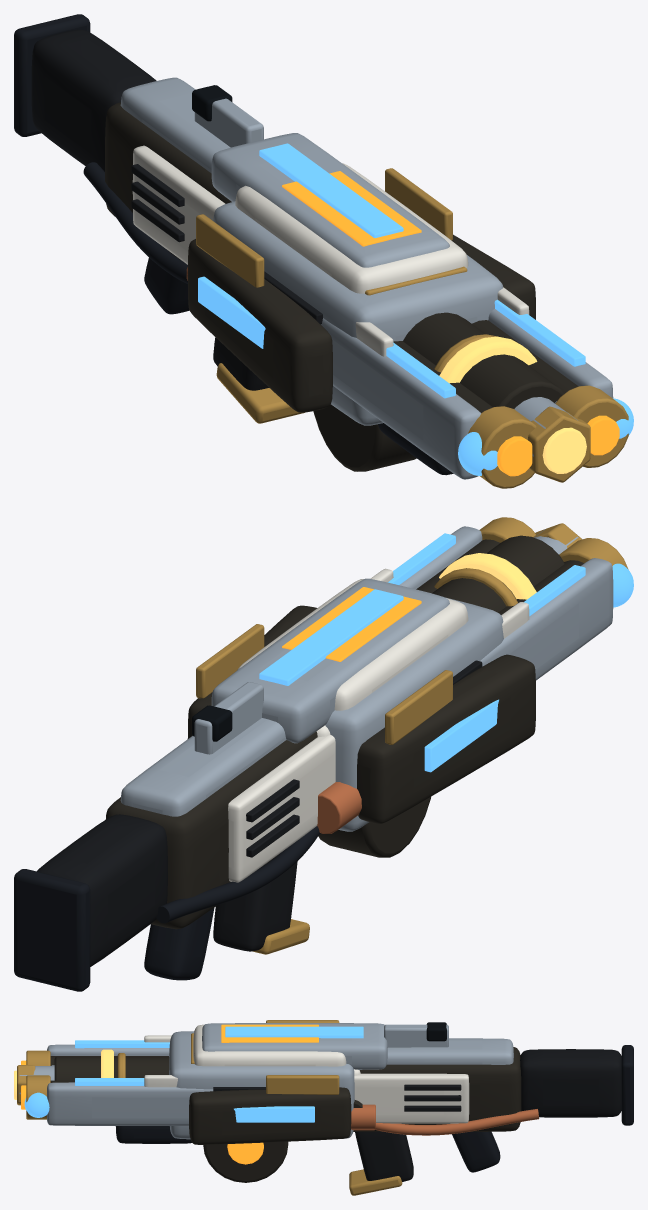
File: rifles.glb
The picture shows the model from 3 angles, top to bottom: view 1: azimuth 30°, elevation 25°; view 2: azimuth 150°, elevation 25°; view 3: azimuth 270°, elevation 25°; orthographic projection. The views are drawn at different scales.
Parts seen in each view (by area): view 1: Shroud.001, Pod-1.002, Stock, Prong-1, TopShroud.002, ShroudTop, Barrel.001, ReceiverTop, Receiver, SidePanel-1, SpineGlow.002, Drum (+31 smaller); view 2: Pod-1.002, Stock, TopShroud.002, ButtPad, Receiver, Shroud.001, ReceiverTop, SidePanel-1, Prong-1, ShroudTop, Mag, SpineGlow.002 (+25 smaller); view 3: Pod1.002, Stock, Prong1, SidePanel1, Receiver, Shroud.001, TopShroud.002, ReceiverTop, ShroudTop, Mag, Drum, Barrel.001 (+25 smaller).
Part boxes in pixels (x1=…): Shroud.001: x1=213, y1=201, x2=503, y2=425; Pod-1.002: x1=187, y1=239, x2=332, y2=412; Stock: x1=31, y1=29, x2=156, y2=171; Prong-1: x1=320, y1=318, x2=481, y2=479; TopShroud.002: x1=211, y1=133, x2=449, y2=267; ShroudTop: x1=235, y1=163, x2=468, y2=293; Barrel.001: x1=403, y1=312, x2=564, y2=408; ReceiverTop: x1=120, y1=77, x2=230, y2=173; Receiver: x1=105, y1=102, x2=231, y2=260; SidePanel-1: x1=132, y1=145, x2=225, y2=264; SpineGlow.002: x1=259, y1=143, x2=403, y2=237; Drum: x1=313, y1=404, x2=416, y2=471; Pod-1.002: x1=357, y1=654, x2=535, y2=823; Stock: x1=37, y1=814, x2=167, y2=966; TopShroud.002: x1=211, y1=578, x2=449, y2=743; ButtPad: x1=14, y1=869, x2=90, y2=991; Receiver: x1=105, y1=731, x2=317, y2=929; Shroud.001: x1=325, y1=597, x2=503, y2=831; ReceiverTop: x1=120, y1=718, x2=286, y2=816; SidePanel-1: x1=228, y1=735, x2=335, y2=882; Prong-1: x1=480, y1=558, x2=613, y2=680; ShroudTop: x1=237, y1=579, x2=468, y2=710; Mag: x1=213, y1=861, x2=297, y2=951; SpineGlow.002: x1=259, y1=589, x2=403, y2=685; Pod1.002: x1=189, y1=1087, x2=351, y2=1144; Stock: x1=520, y1=1049, x2=621, y2=1117; Prong1: x1=47, y1=1082, x2=213, y2=1125; SidePanel1: x1=354, y1=1073, x2=469, y2=1123; Receiver: x1=353, y1=1047, x2=521, y2=1131; Shroud.001: x1=169, y1=1031, x2=354, y2=1139; TopShroud.002: x1=202, y1=1023, x2=387, y2=1069; ReceiverTop: x1=387, y1=1038, x2=513, y2=1064; ShroudTop: x1=193, y1=1024, x2=346, y2=1066; Mag: x1=355, y1=1132, x2=413, y2=1181; Drum: x1=203, y1=1141, x2=288, y2=1182; Barrel.001: x1=54, y1=1057, x2=169, y2=1080.
Size of the model in its own units: 0.4119 by 0.4446 by 1.52.
